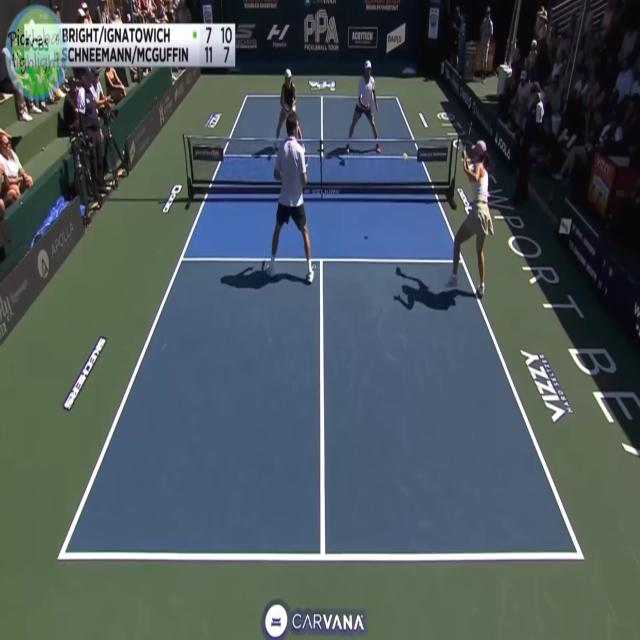ball: (400, 144, 417, 170)
